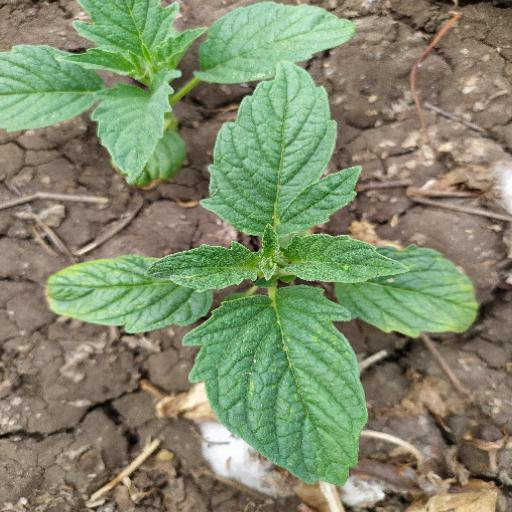crop: (43, 67, 483, 482), (1, 1, 360, 174)
